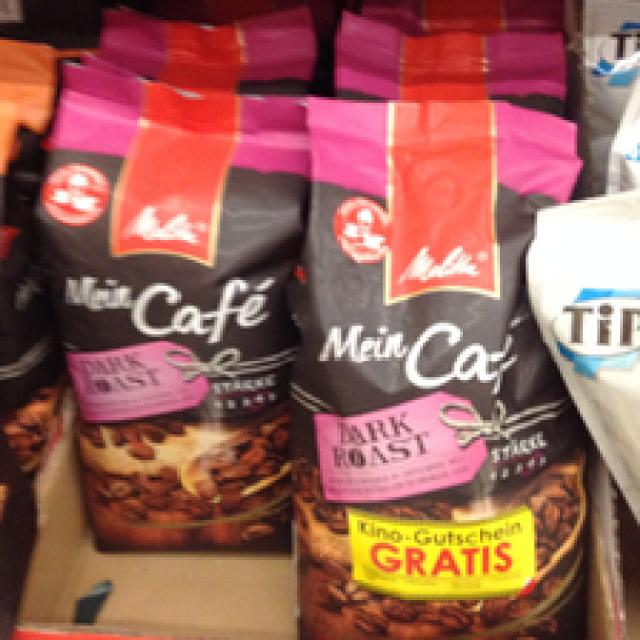groceries: (291, 92, 580, 637), (31, 49, 306, 552)
